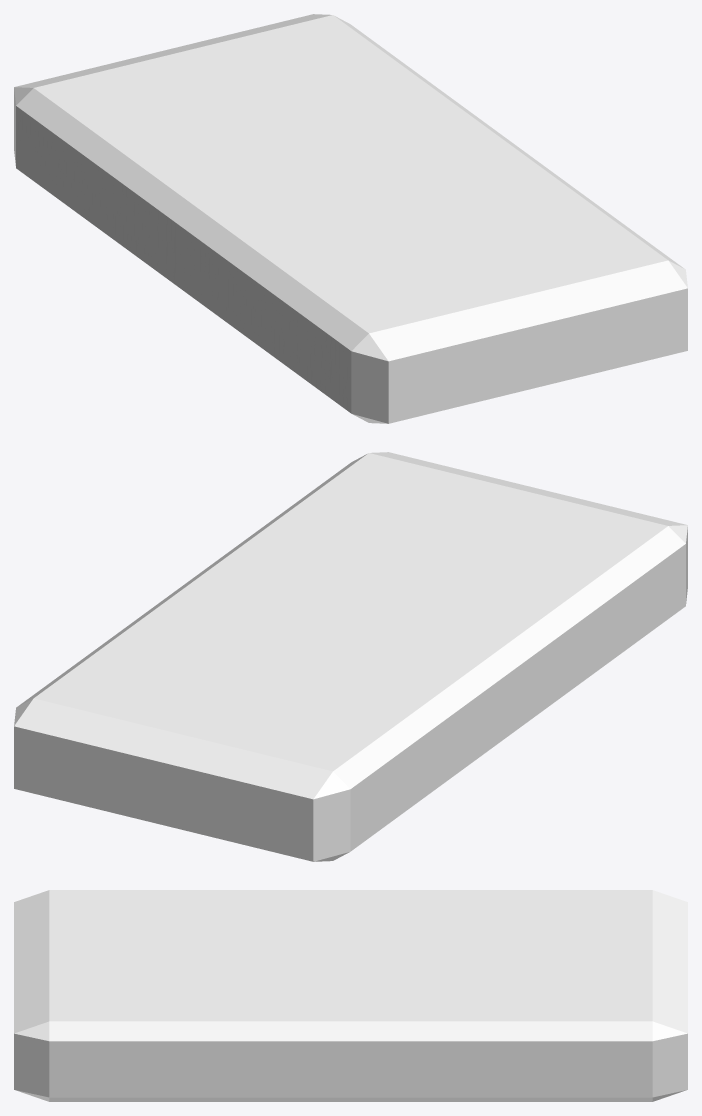
File: paving stone 1.fbx
The picture shows the model from 3 angles, top to bottom: view 1: azimuth 30°, elevation 25°; view 2: azimuth 150°, elevation 25°; view 3: azimuth 270°, elevation 25°; orthographic projection. The views are drawn at different scales.
Visible parts, largest first — view 1: Cube; view 2: Cube; view 3: Cube.
Boxes of the visible parts, bbox=[...] form: Cube: bbox=[14, 14, 687, 423]; Cube: bbox=[14, 452, 687, 861]; Cube: bbox=[14, 890, 687, 1101].
Size of the model in its own units: 160 by 40.84 by 310.
